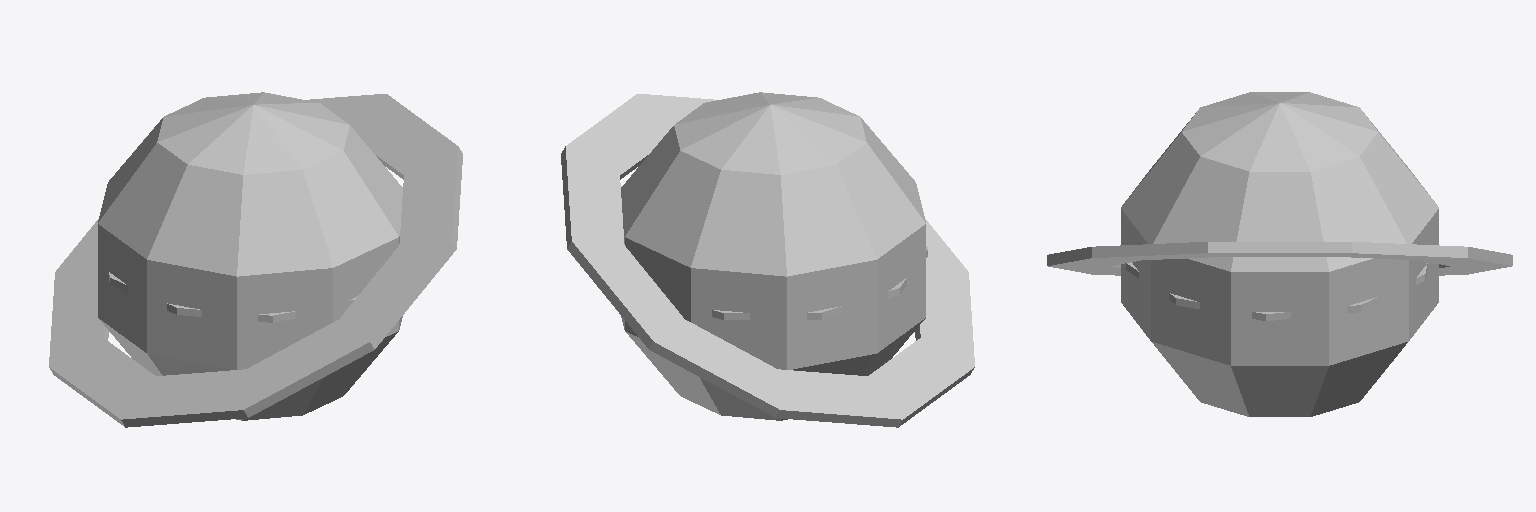
File: Enemy_Attack4.obj
3 renders of one model, left to right at view 1: azimuth 30°, elevation 25°; view 2: azimuth 150°, elevation 25°; view 3: azimuth 270°, elevation 25°, orthographic.
Parts seen in each view (by area): view 1: Sphere002, Tube001, Tube002; view 2: Sphere002, Tube001, Tube002; view 3: Sphere002, Tube001, Tube002.
Part boxes in pixels (bbox=[...]): Sphere002: bbox=[98, 92, 402, 420]; Tube001: bbox=[49, 94, 462, 427]; Tube002: bbox=[109, 272, 357, 322]; Sphere002: bbox=[621, 92, 925, 420]; Tube001: bbox=[561, 94, 974, 427]; Tube002: bbox=[712, 246, 927, 319]; Sphere002: bbox=[1121, 92, 1438, 416]; Tube001: bbox=[1047, 242, 1512, 275]; Tube002: bbox=[1126, 262, 1427, 320].
Size of the model in its own units: 26.92 by 22.83 by 31.73.